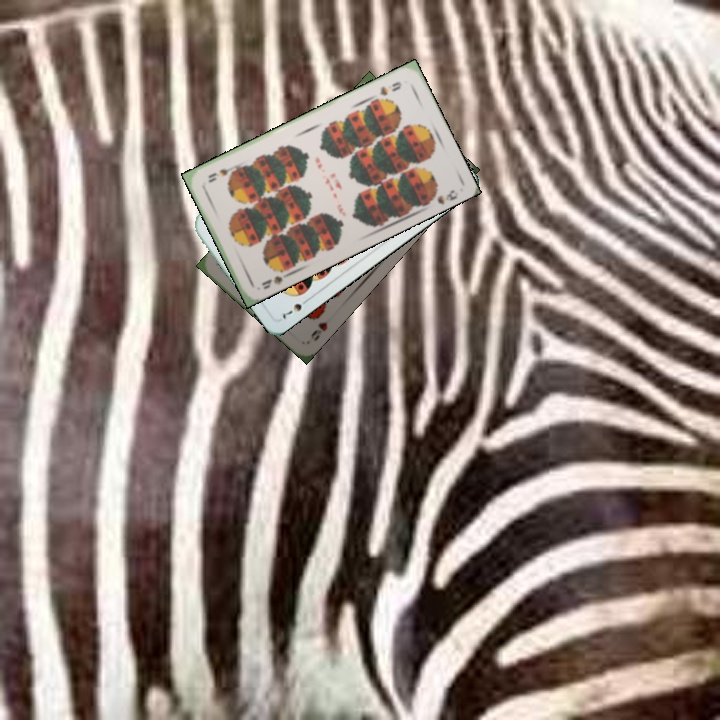H9: (307, 317, 330, 344)
S7: (277, 294, 312, 322)
S9: (257, 263, 293, 292), (376, 77, 404, 98)
